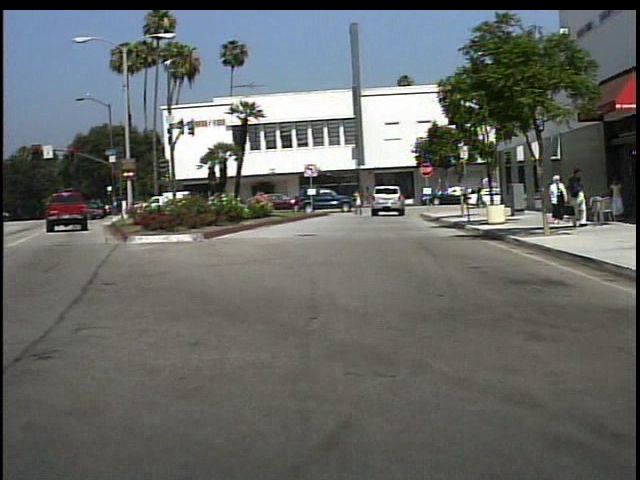person: (569, 167, 592, 230), (605, 176, 628, 224), (548, 176, 569, 226), (353, 186, 368, 218), (480, 180, 483, 214)
